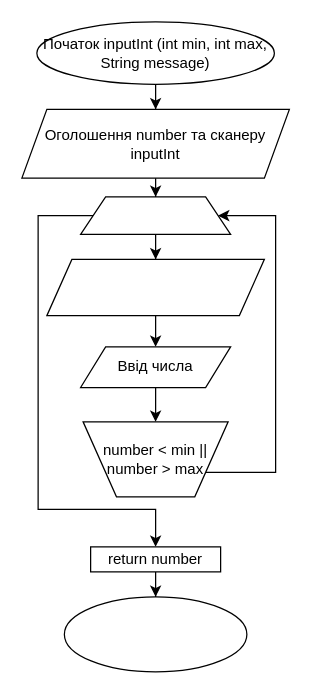
Some shapes in this 311 by 694 pixel diagram are drawn without their labels. Each missing label, with the box of its shape:
Введіть число (min- max):: (46, 258, 264, 316)
кінець функції inputInt: (63, 596, 247, 672)
